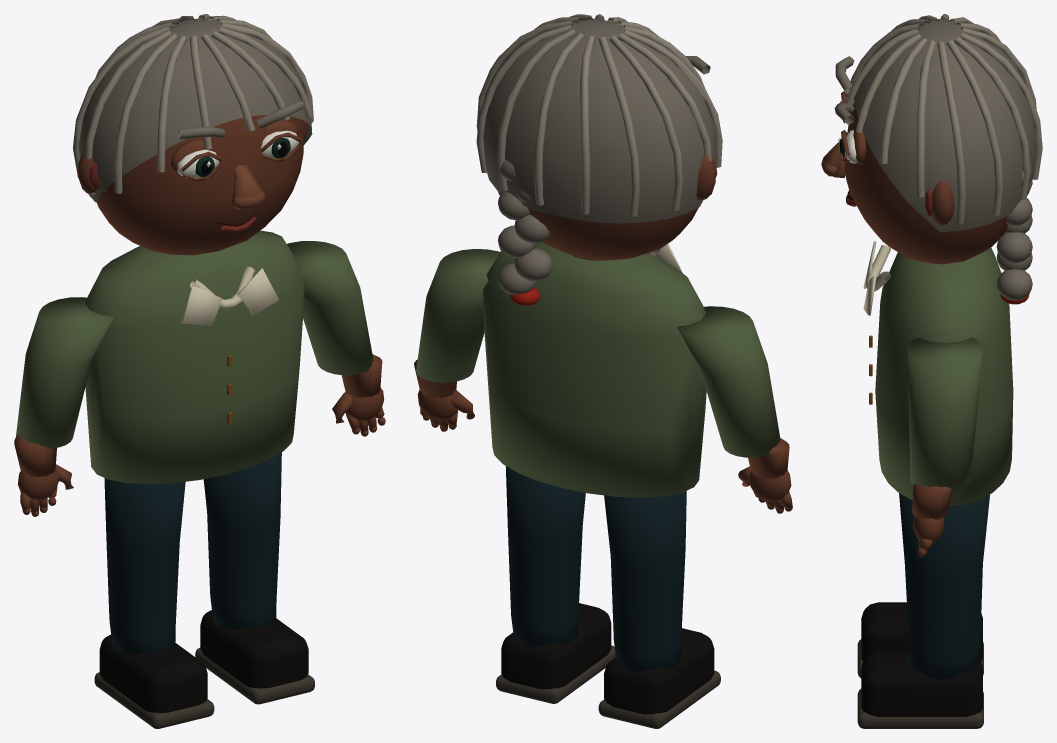
File: patient-35.glb
3 renders of one model, left to right at view 1: azimuth 30°, elevation 25°; view 2: azimuth 150°, elevation 25°; view 3: azimuth 270°, elevation 25°, orthographic.
Parts seen in each view (by area): view 1: Body, Head, LegL, LegR, ArmL, ArmR; view 2: Body, Head, LegL, LegR, ArmL, ArmR; view 3: Head, Body, LegR, ArmR, LegL.
Part boxes in pixels (x1,y1,x2,y2): Body: (85,213,304,484); Head: (73,14,313,255); LegL: (94,478,214,728); LegR: (195,452,314,704); ArmL: (14,297,113,516); ArmR: (287,241,385,436); Body: (482,191,706,497); Head: (476,14,722,260); LegL: (598,491,720,728); LegR: (496,466,615,703); ArmL: (677,306,792,513); ArmR: (414,249,499,431); Head: (821,14,1042,264); Body: (846,190,1032,506); LegR: (857,493,989,728); ArmR: (907,337,982,557); LegL: (857,602,983,678).
Size of the model in its own units: 0.7312 by 1.26 by 0.383.
